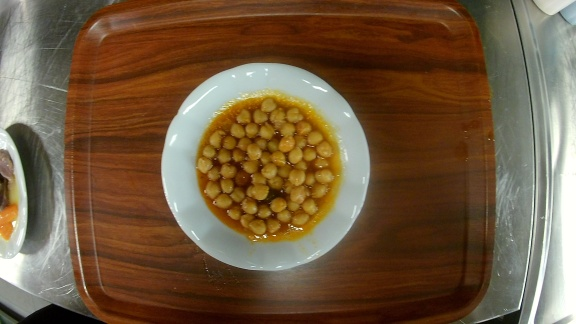sulunohut: (160, 61, 371, 272)
